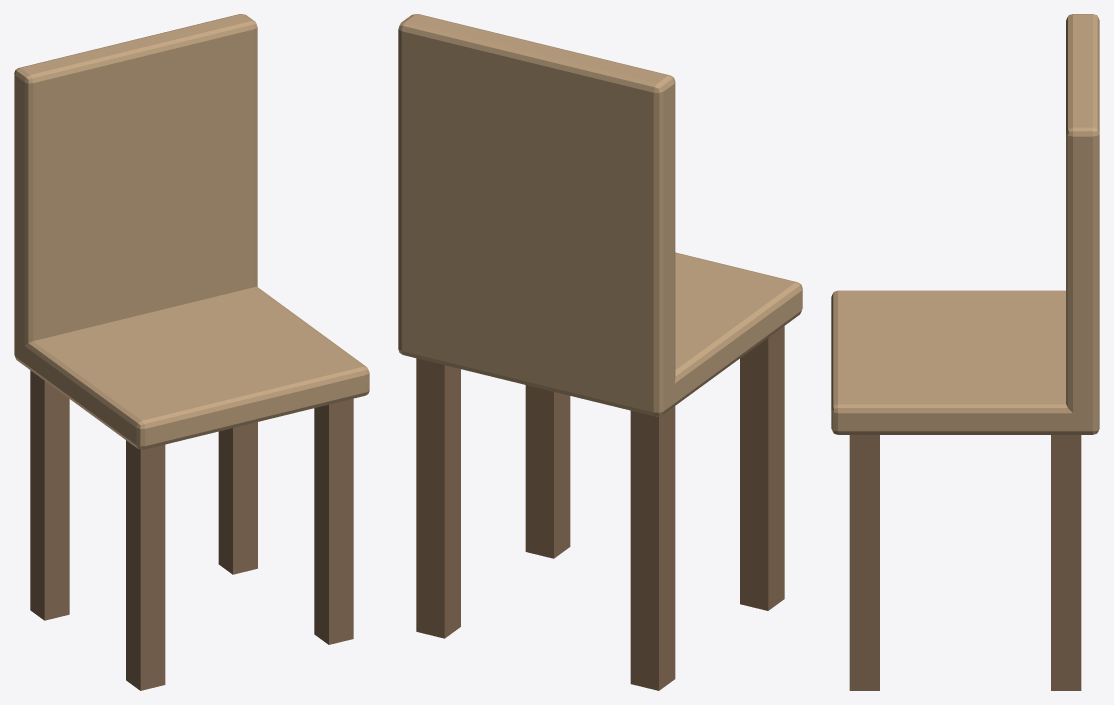
The model's file is fur_chair.glb.
3 renders of one model, left to right at view 1: azimuth 30°, elevation 25°; view 2: azimuth 150°, elevation 25°; view 3: azimuth 270°, elevation 25°, orthographic. The views are drawn at different scales.
Visible parts, largest first — view 1: fur_chair; view 2: fur_chair; view 3: fur_chair.
Boxes of the visible parts, x1,y1,x2,y2 form: fur_chair: (14, 14, 369, 690); fur_chair: (398, 14, 802, 690); fur_chair: (831, 14, 1099, 690).
Bounding box in the file's own units: 0.42 × 0.93 × 0.4.
